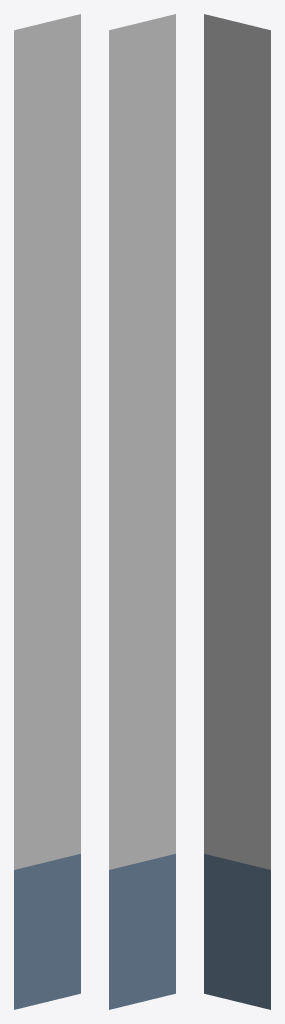
Rendered from M_Wall25-1White80-2.FBX.
3 views of the same model, side by side, from view 1: azimuth 30°, elevation 25°; view 2: azimuth 210°, elevation 25°; view 3: azimuth 330°, elevation 25° (orthographic).
Visible parts, largest first — view 1: M_Wall25-1White80-2; view 2: M_Wall25-1White80-2; view 3: M_Wall25-1White80-2.
Boxes of the visible parts, left/top/right/bottom form: M_Wall25-1White80-2: left=14, top=14, right=80, bottom=1009; M_Wall25-1White80-2: left=109, top=14, right=175, bottom=1009; M_Wall25-1White80-2: left=204, top=14, right=270, bottom=1009.
Bounding box in the file's own units: 0.25 × 3.5 × 7.23e-07.
